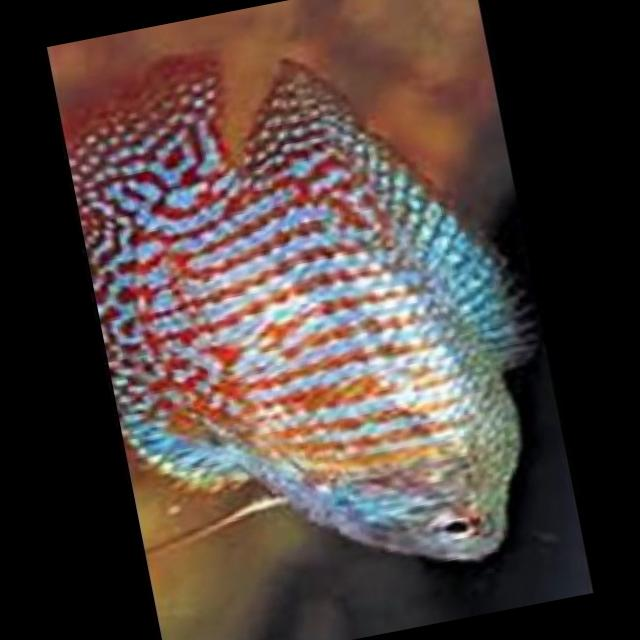Gourami: (51, 0, 574, 625)
